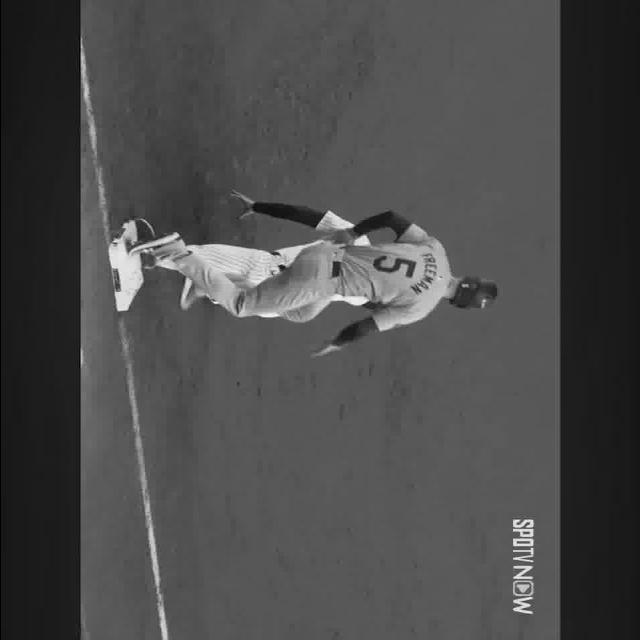base: (108, 220, 143, 311)
shoe: (127, 232, 182, 256), (130, 217, 155, 242), (178, 278, 193, 310), (140, 254, 155, 270)
